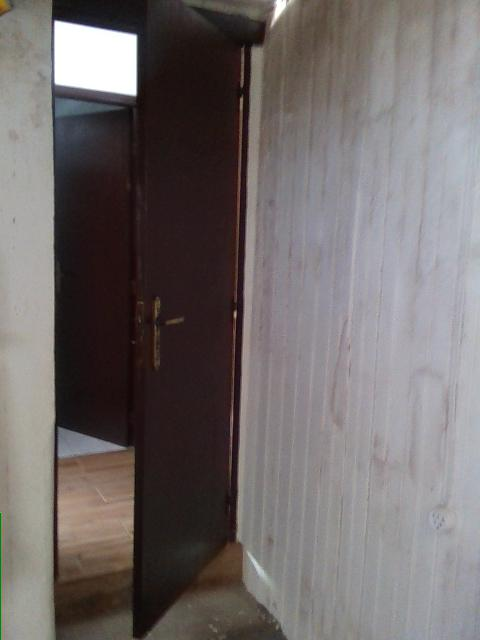semi_door: (51, 2, 251, 639)
